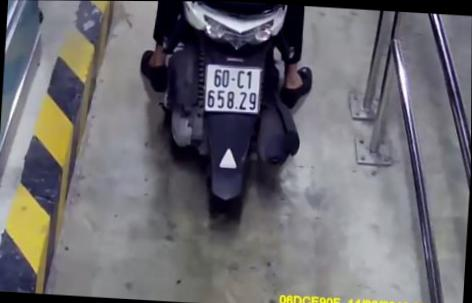LP: (202, 61, 264, 114)
